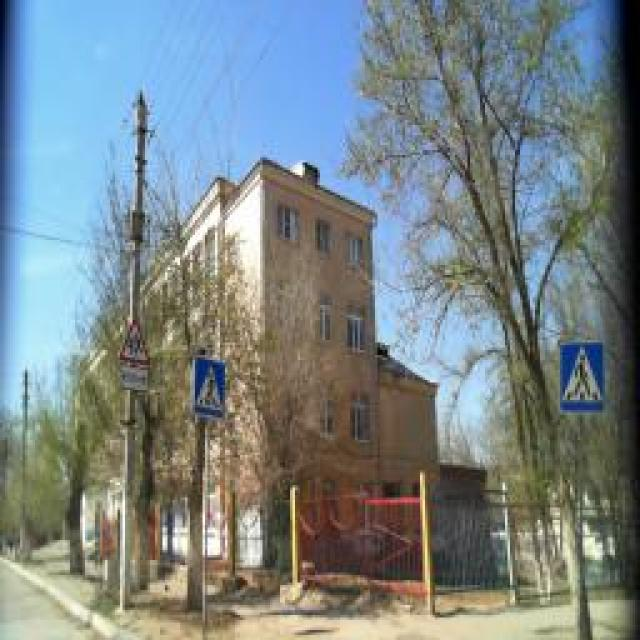sign: (119, 311, 151, 364)
